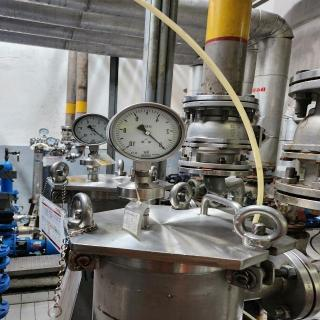gauge: (106, 103, 186, 162), (69, 112, 112, 146), (120, 140, 136, 152), (158, 142, 168, 154), (99, 131, 106, 141), (79, 133, 88, 140), (145, 131, 150, 135), (101, 136, 105, 140), (92, 128, 95, 131), (164, 148, 166, 150)
